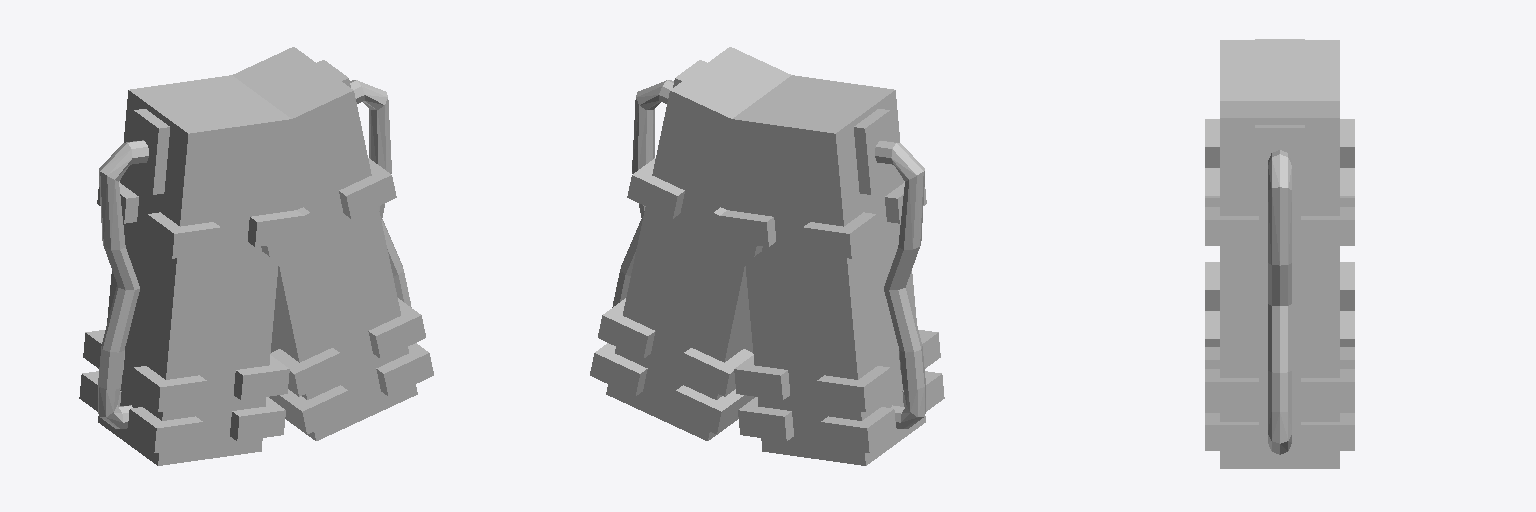
File: arm_exo_legs.obj
The picture shows the model from 3 angles: view 1: azimuth 30°, elevation 25°; view 2: azimuth 150°, elevation 25°; view 3: azimuth 270°, elevation 25°; orthographic projection.
Visible parts, largest first — view 1: arm_jacket_arm_Cube.001; view 2: arm_jacket_arm_Cube.001; view 3: arm_jacket_arm_Cube.001.
Boxes of the visible parts, x1=… form: arm_jacket_arm_Cube.001: x1=79, y1=47, x2=433, y2=465; arm_jacket_arm_Cube.001: x1=590, y1=47, x2=944, y2=465; arm_jacket_arm_Cube.001: x1=1205, y1=39, x2=1354, y2=468.
Bounding box in the file's own units: 3.01 × 3.14 × 1.25.